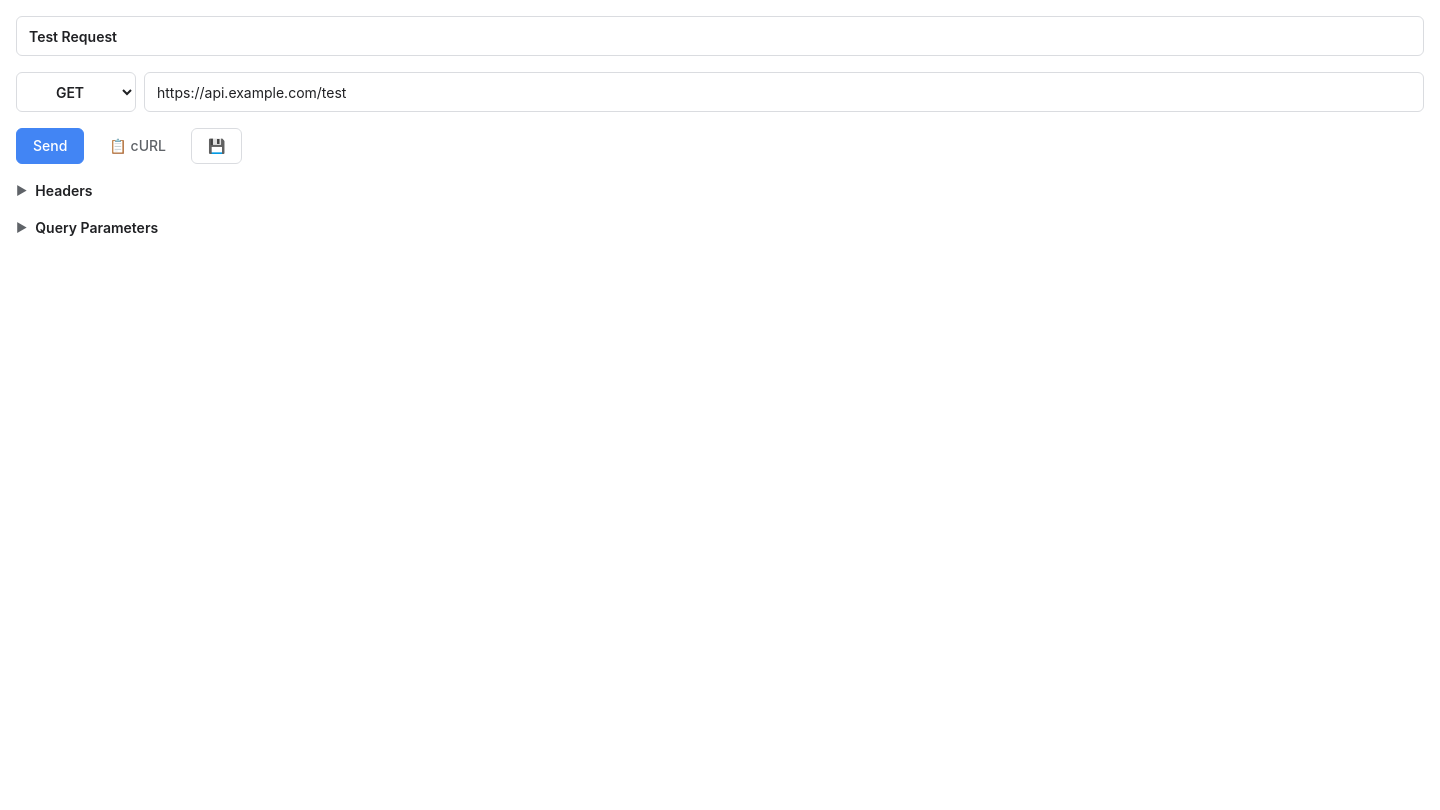
Test: Vertical Request Layout › should change between query parameters and body section when method changes via dropdown
The image size is (1440, 810).
Expected: the heading "▶ Query Parameters" is shown, [16,219,158,236]
Expected: the text "Body" is not shown
Change method to POST via dropdown
Select "POST" in the dropdown showing "GET" at (76, 92), box [16,72,136,112]
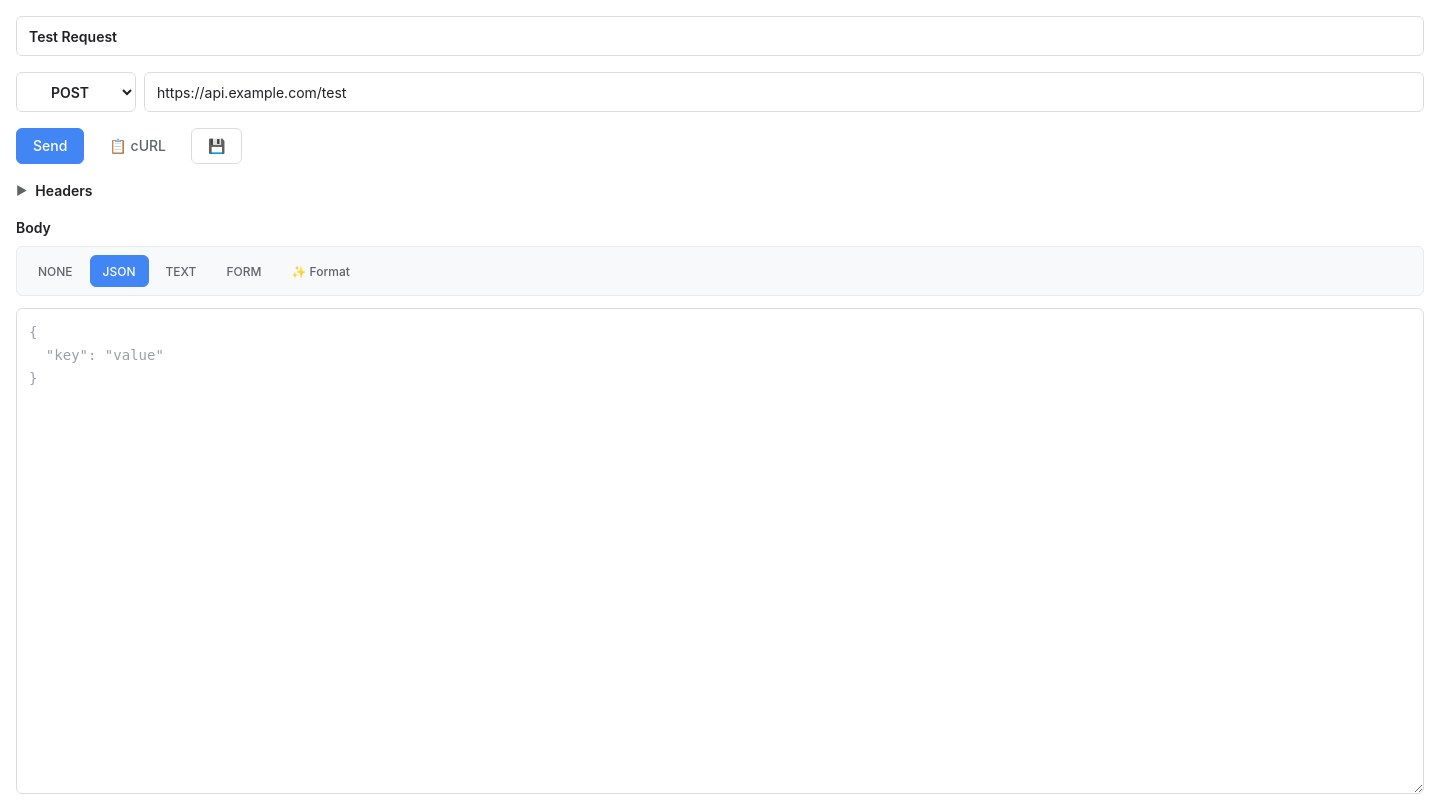
Expected: the heading "Query Parameters" is gone
Expected: the heading "Body" is shown, [16,219,51,236]
Expected: the button "JSON" is shown, [90,255,148,287]
